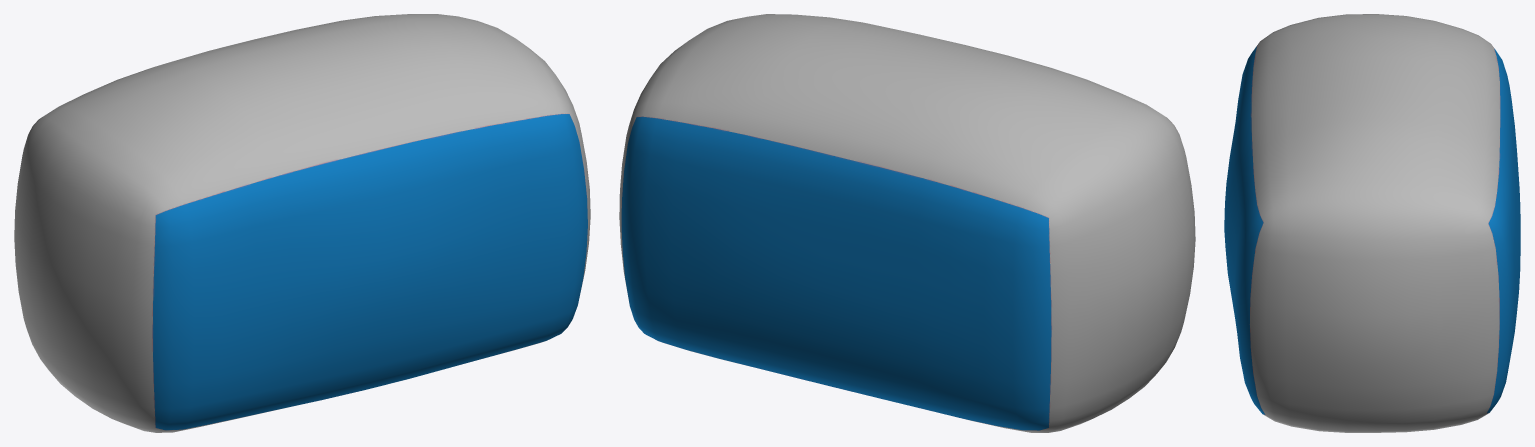
Rendered from Bus.fbx.
3 renders of one model, left to right at view 1: azimuth 30°, elevation 25°; view 2: azimuth 150°, elevation 25°; view 3: azimuth 270°, elevation 25°, orthographic. The views are drawn at different scales.
Visible parts, largest first — view 1: Bus_L; view 2: Bus_L; view 3: Bus_L.
Part boxes in pixels (bbox=[...]): Bus_L: bbox=[14, 14, 590, 432]; Bus_L: bbox=[619, 14, 1195, 432]; Bus_L: bbox=[1224, 14, 1520, 432].
Bounding box in the file's own units: 318 × 177 × 177.
